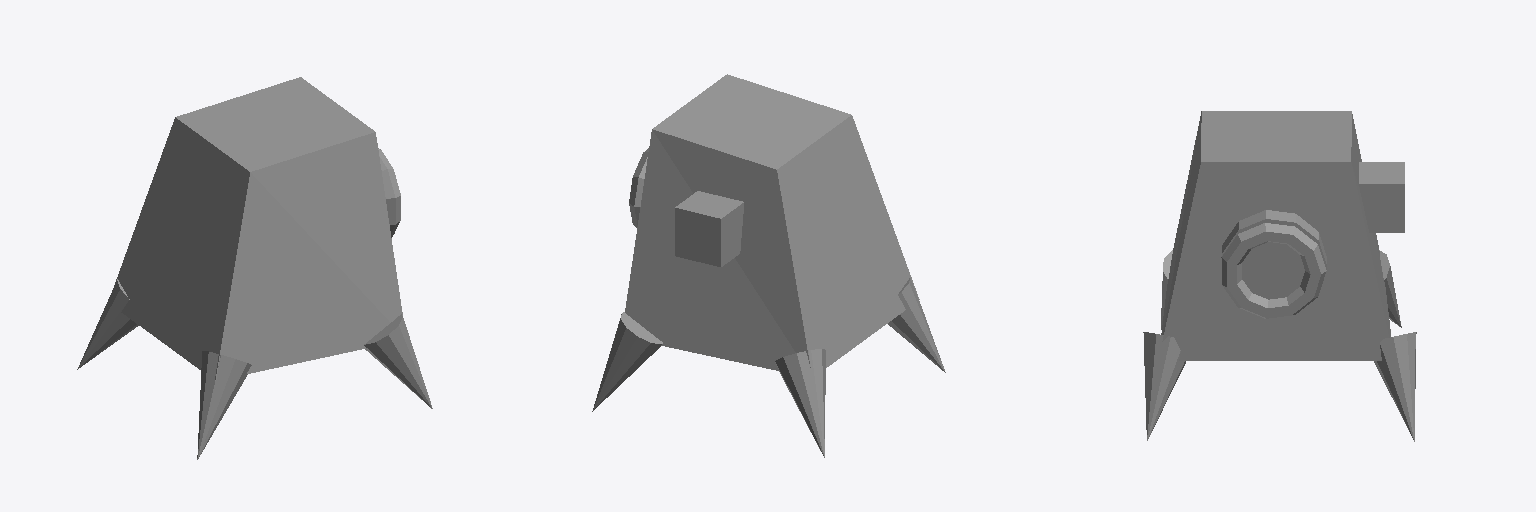
The model's file is cube_enemy.obj.
3 views of the same model, side by side, from view 1: azimuth 30°, elevation 25°; view 2: azimuth 150°, elevation 25°; view 3: azimuth 270°, elevation 25° (orthographic).
Visible parts, largest first — view 1: Cube.001; view 2: Cube.001; view 3: Cube.001.
Boxes of the visible parts, x1=… form: Cube.001: x1=77, y1=77, x2=432, y2=459; Cube.001: x1=592, y1=74, x2=945, y2=457; Cube.001: x1=1143, y1=111, x2=1416, y2=441.
Bounding box in the file's own units: 2.55 × 2.74 × 2.54.